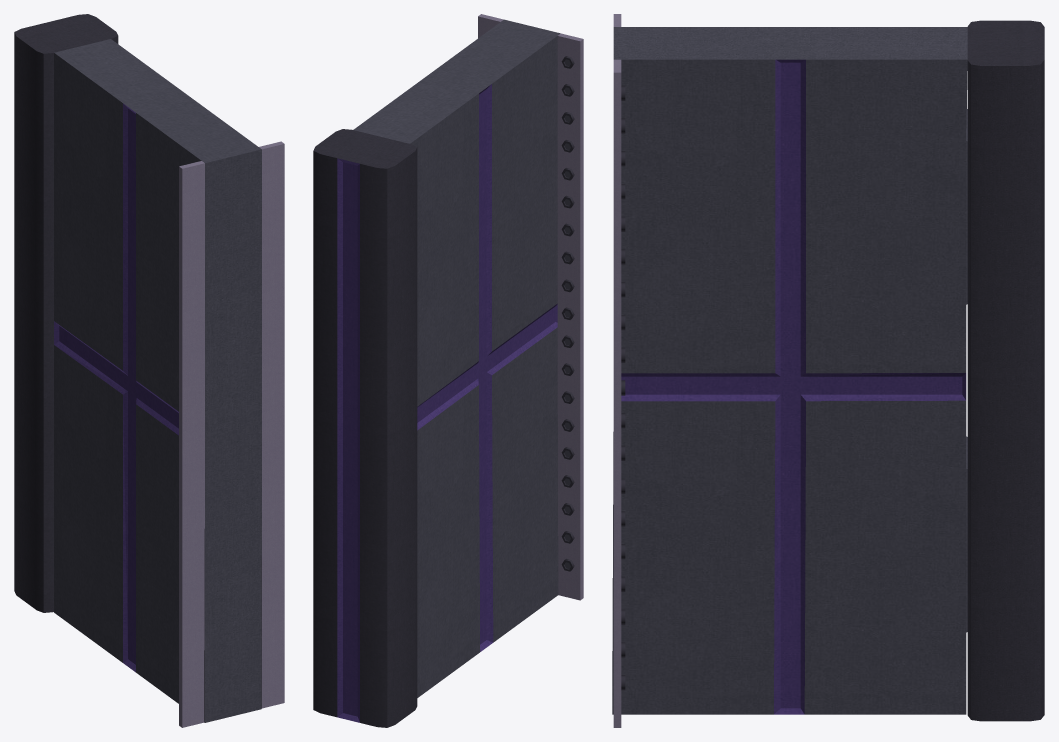
The model's file is Door_Variant02_Final.FBX.
3 views of the same model, side by side, from view 1: azimuth 30°, elevation 25°; view 2: azimuth 150°, elevation 25°; view 3: azimuth 270°, elevation 25° (orthographic). The views are drawn at different scales.
Visible parts, largest first — view 1: Main_Door, ForeGround_Piece, Wall_Brace, Wall_Brace002; view 2: Main_Door, ForeGround_Piece, Wall_Brace; view 3: Main_Door, ForeGround_Piece, Wall_Brace002.
Boxes of the visible parts, bbox=[...] form: Main_Door: bbox=[53, 39, 261, 722]; ForeGround_Piece: bbox=[14, 14, 118, 612]; Wall_Brace: bbox=[179, 161, 204, 727]; Wall_Brace002: bbox=[259, 141, 284, 708]; Main_Door: bbox=[353, 19, 560, 697]; ForeGround_Piece: bbox=[313, 129, 417, 727]; Wall_Brace: bbox=[557, 33, 583, 600]; Main_Door: bbox=[612, 27, 967, 714]; ForeGround_Piece: bbox=[967, 20, 1044, 721]; Wall_Brace002: bbox=[613, 59, 621, 727].
Bounding box in the file's own units: 70.88 × 370 × 221.
4 materials, 4 textured.
